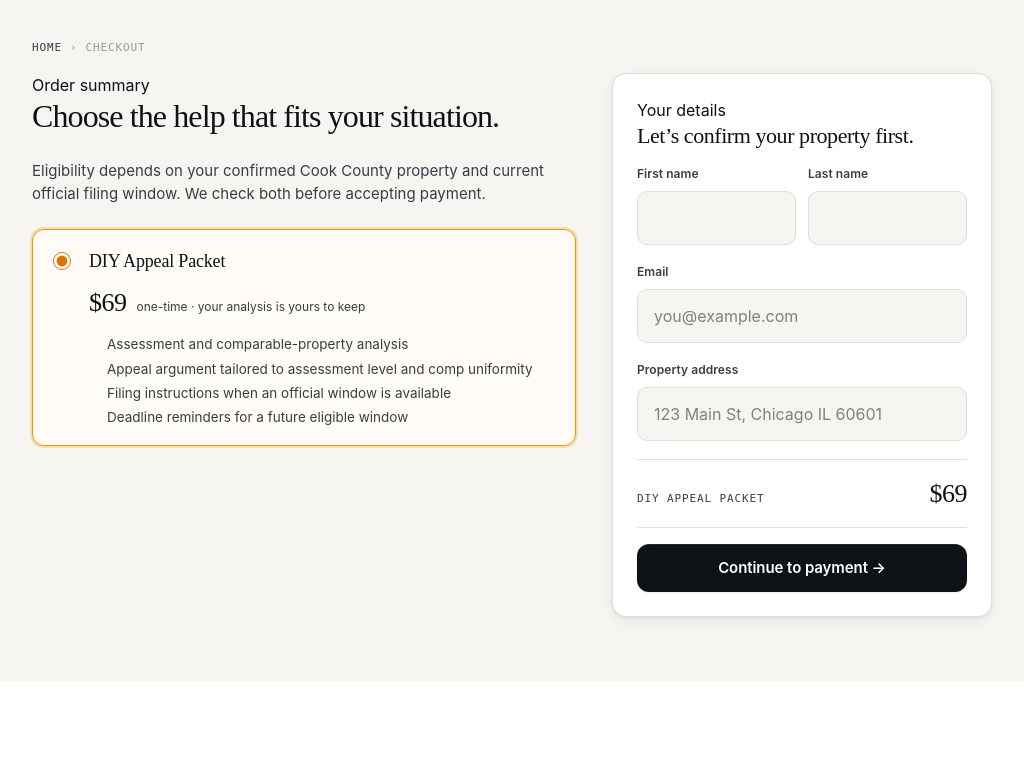
it: checkout_blocked from the real checkout page › a T3_WINDOW_BLOCKED gate emits one checkout_blocked and still renders the gate
In the field labelled "First name": (716, 218) left=637, top=191, right=796, bottom=245, type "Buyer"
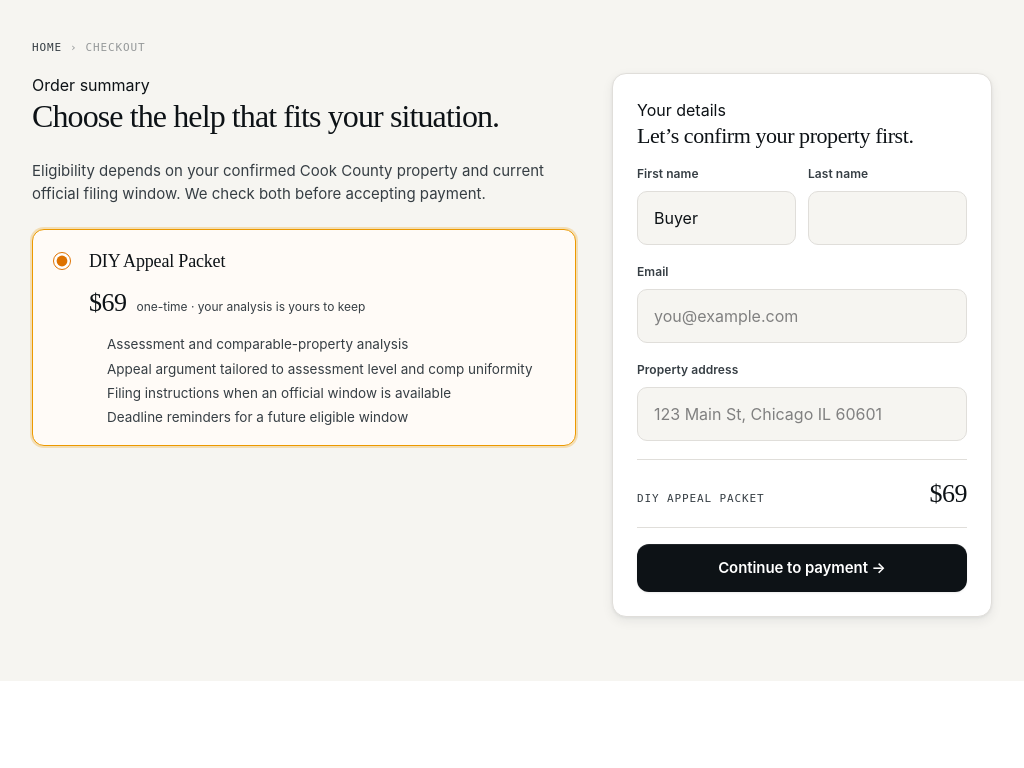
In the field labelled "Last name": (888, 218) left=808, top=191, right=967, bottom=245, type "Example"
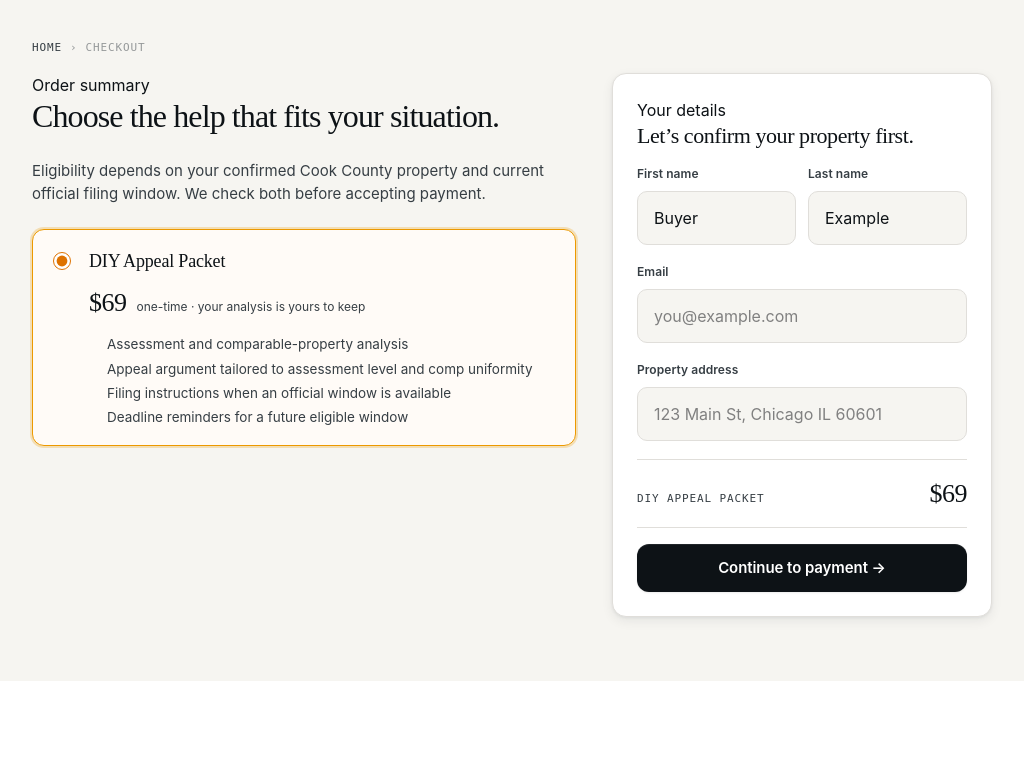
In the field labelled "Email": (802, 316) left=637, top=289, right=967, bottom=343, type "buyer@example.com"
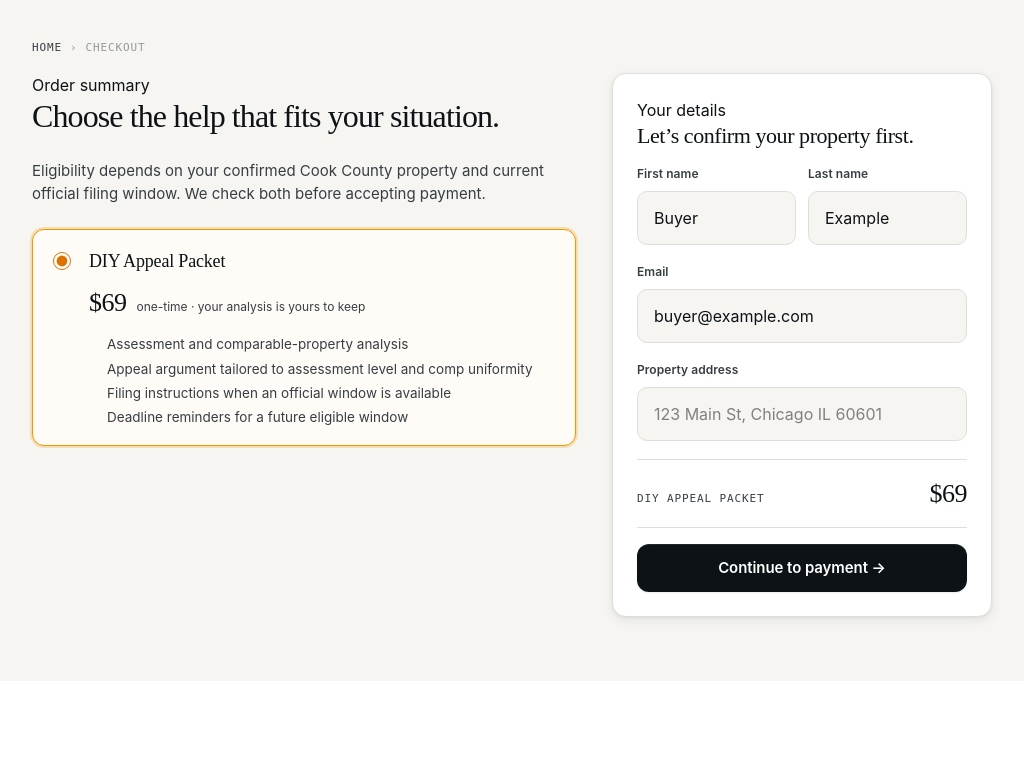
In the field labelled "Property address": (802, 414) left=637, top=387, right=967, bottom=441, type "2834 W Henderson St, Chicago IL 60618"
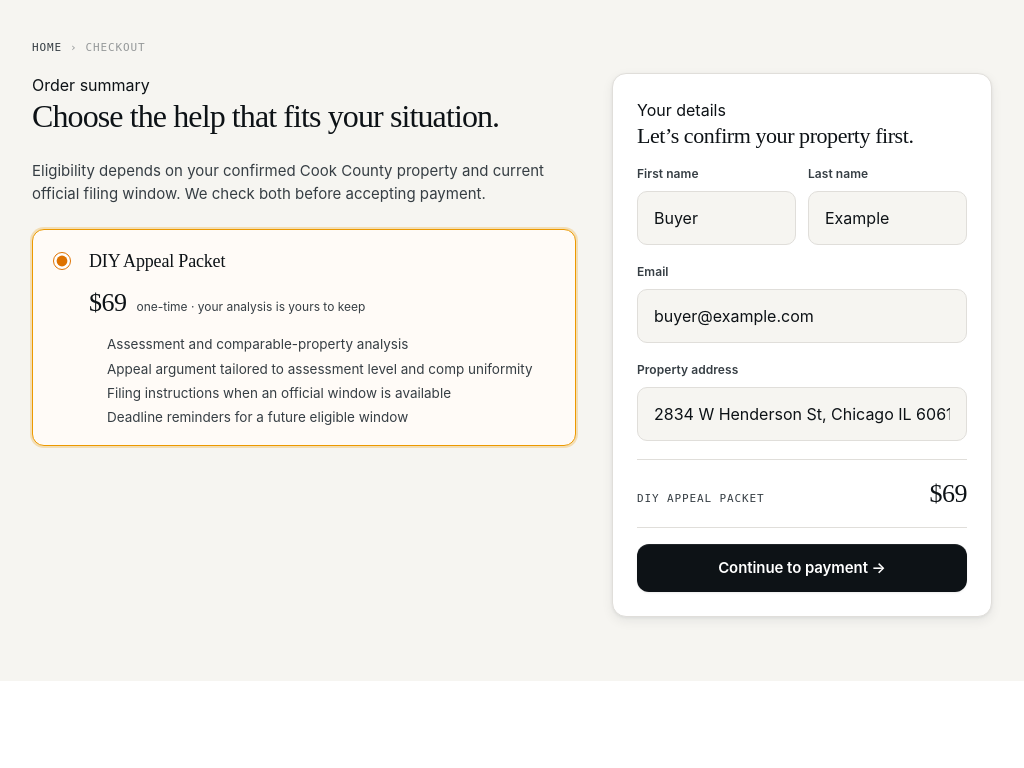
Click the button "Continue to payment →": (802, 568) left=637, top=544, right=967, bottom=592
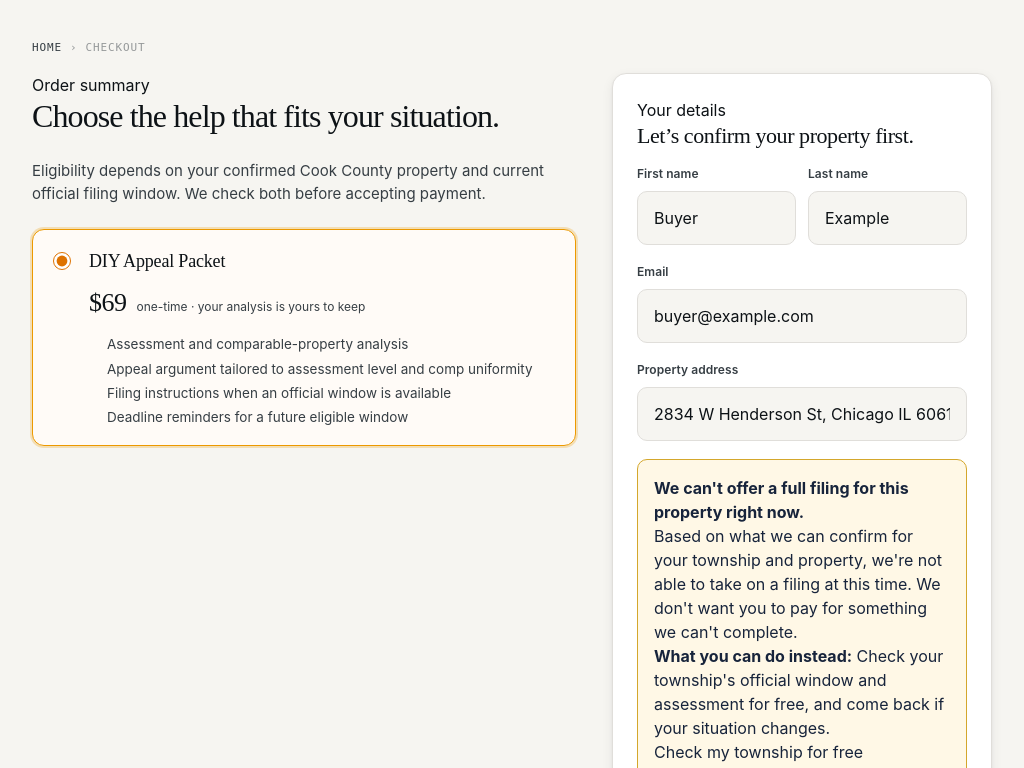
expect the text "We can't offer a full filing for this property right now." is shown: met, box left=654, top=478, right=909, bottom=522
